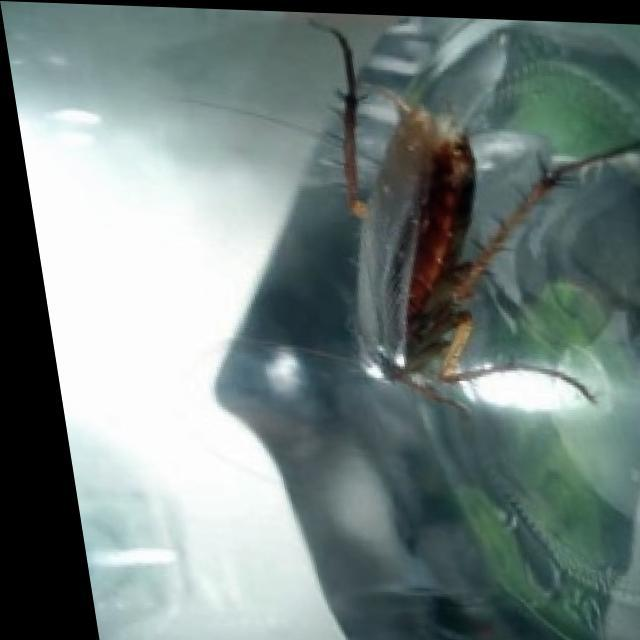cockroach: (306, 32, 618, 418)
